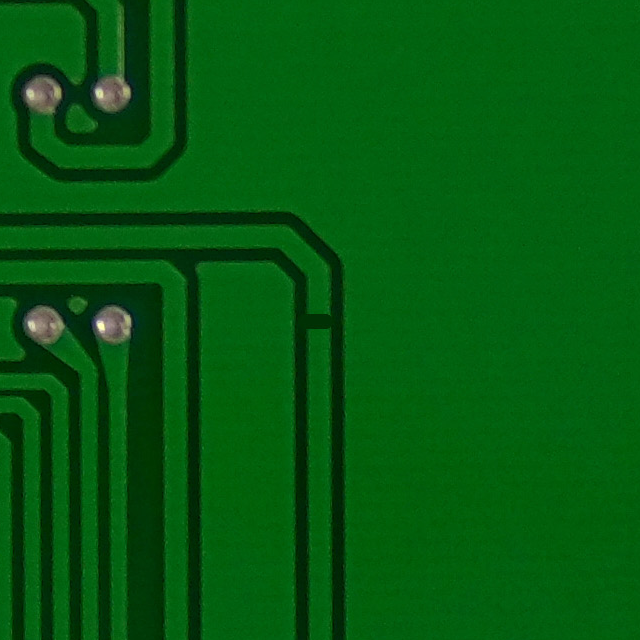open_circuit: (301, 300, 339, 340)
